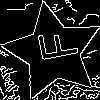F: (28, 27, 80, 65)
